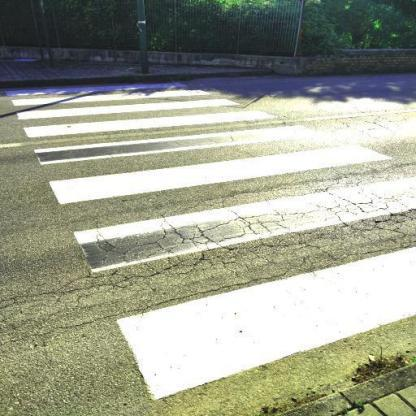crosswalk: (24, 122, 401, 207)
